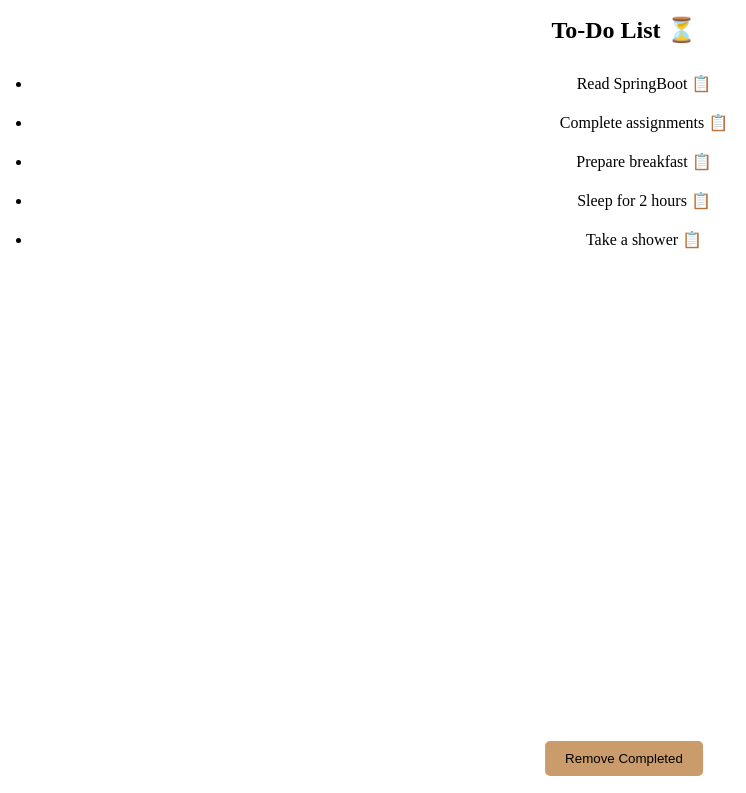
it: ToDoList Component › should remove toggled tasks properly when the custom button is clicked
This screenshot has width=746, height=793.
// Toggle the completion of Tasks
Click the list item "Read SpringBoot 📋" at (644, 83), box [577,75,711,92]
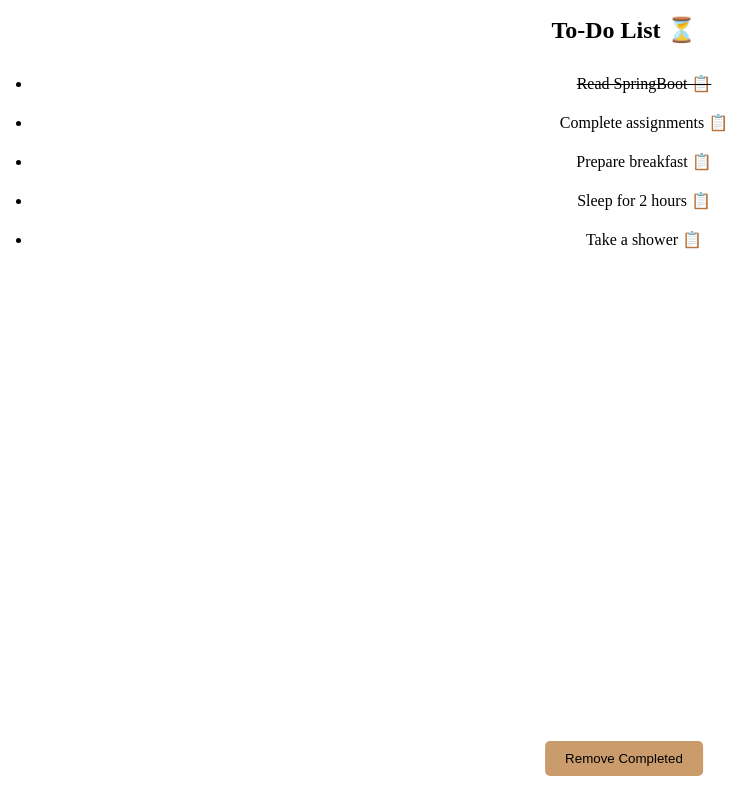
Click the list item "Complete assignments 📋" at (644, 122), box [560,114,728,131]
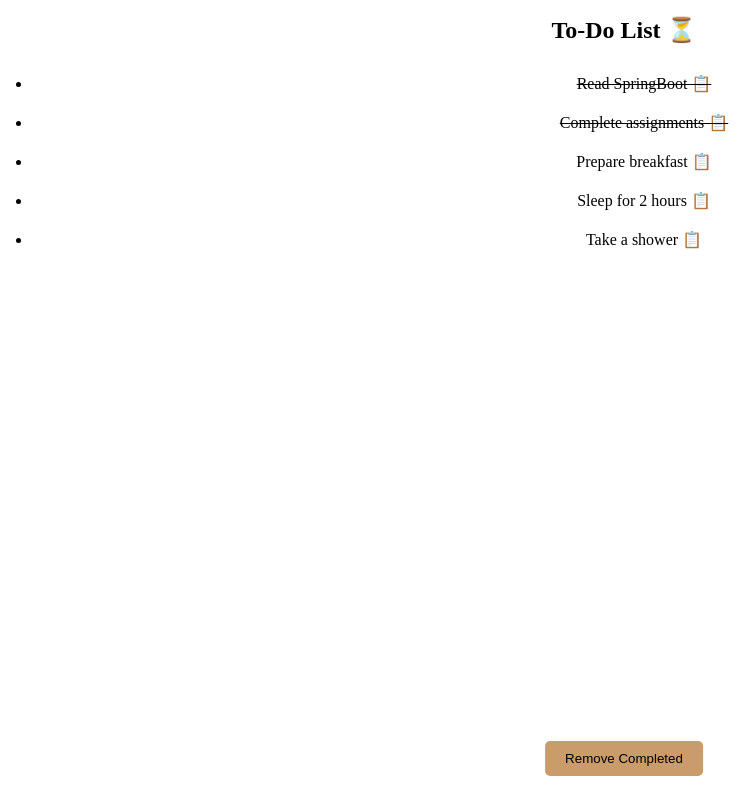
// Click thebutton to remove toggled tasks
Click the button with test id "remove" at (624, 758), box [545,741,703,776]
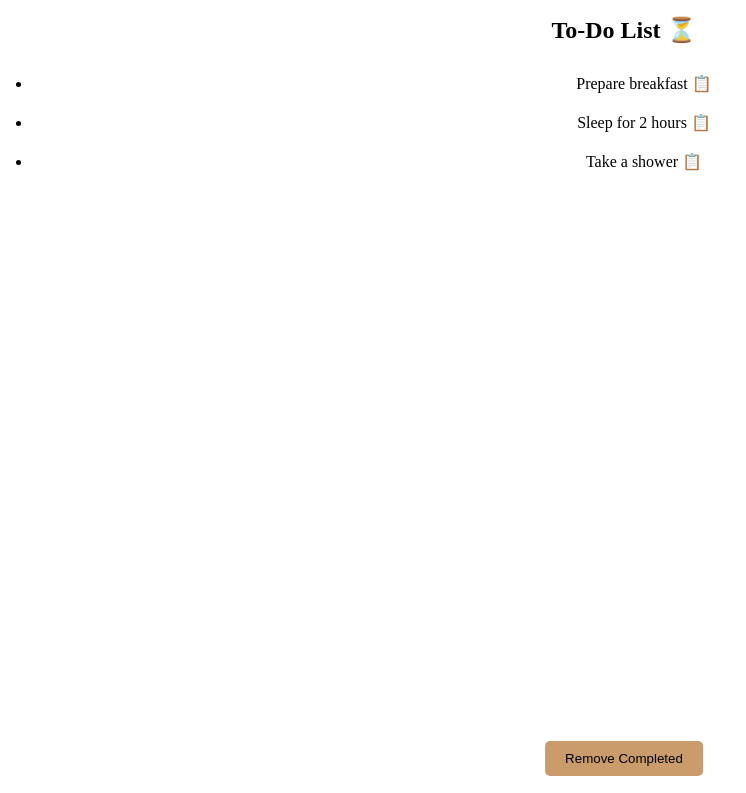
expect the list item "Read SpringBoot 📋" is gone: met
expect the list item "Complete assignments 📋" is gone: met
expect the list item "Prepare breakfast 📋" is shown: met, box [576,75,712,92]
